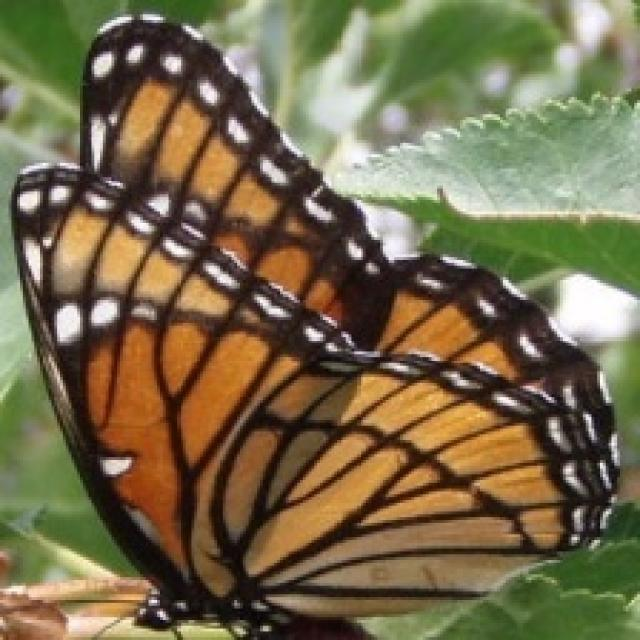butterfly: (6, 9, 620, 637)
